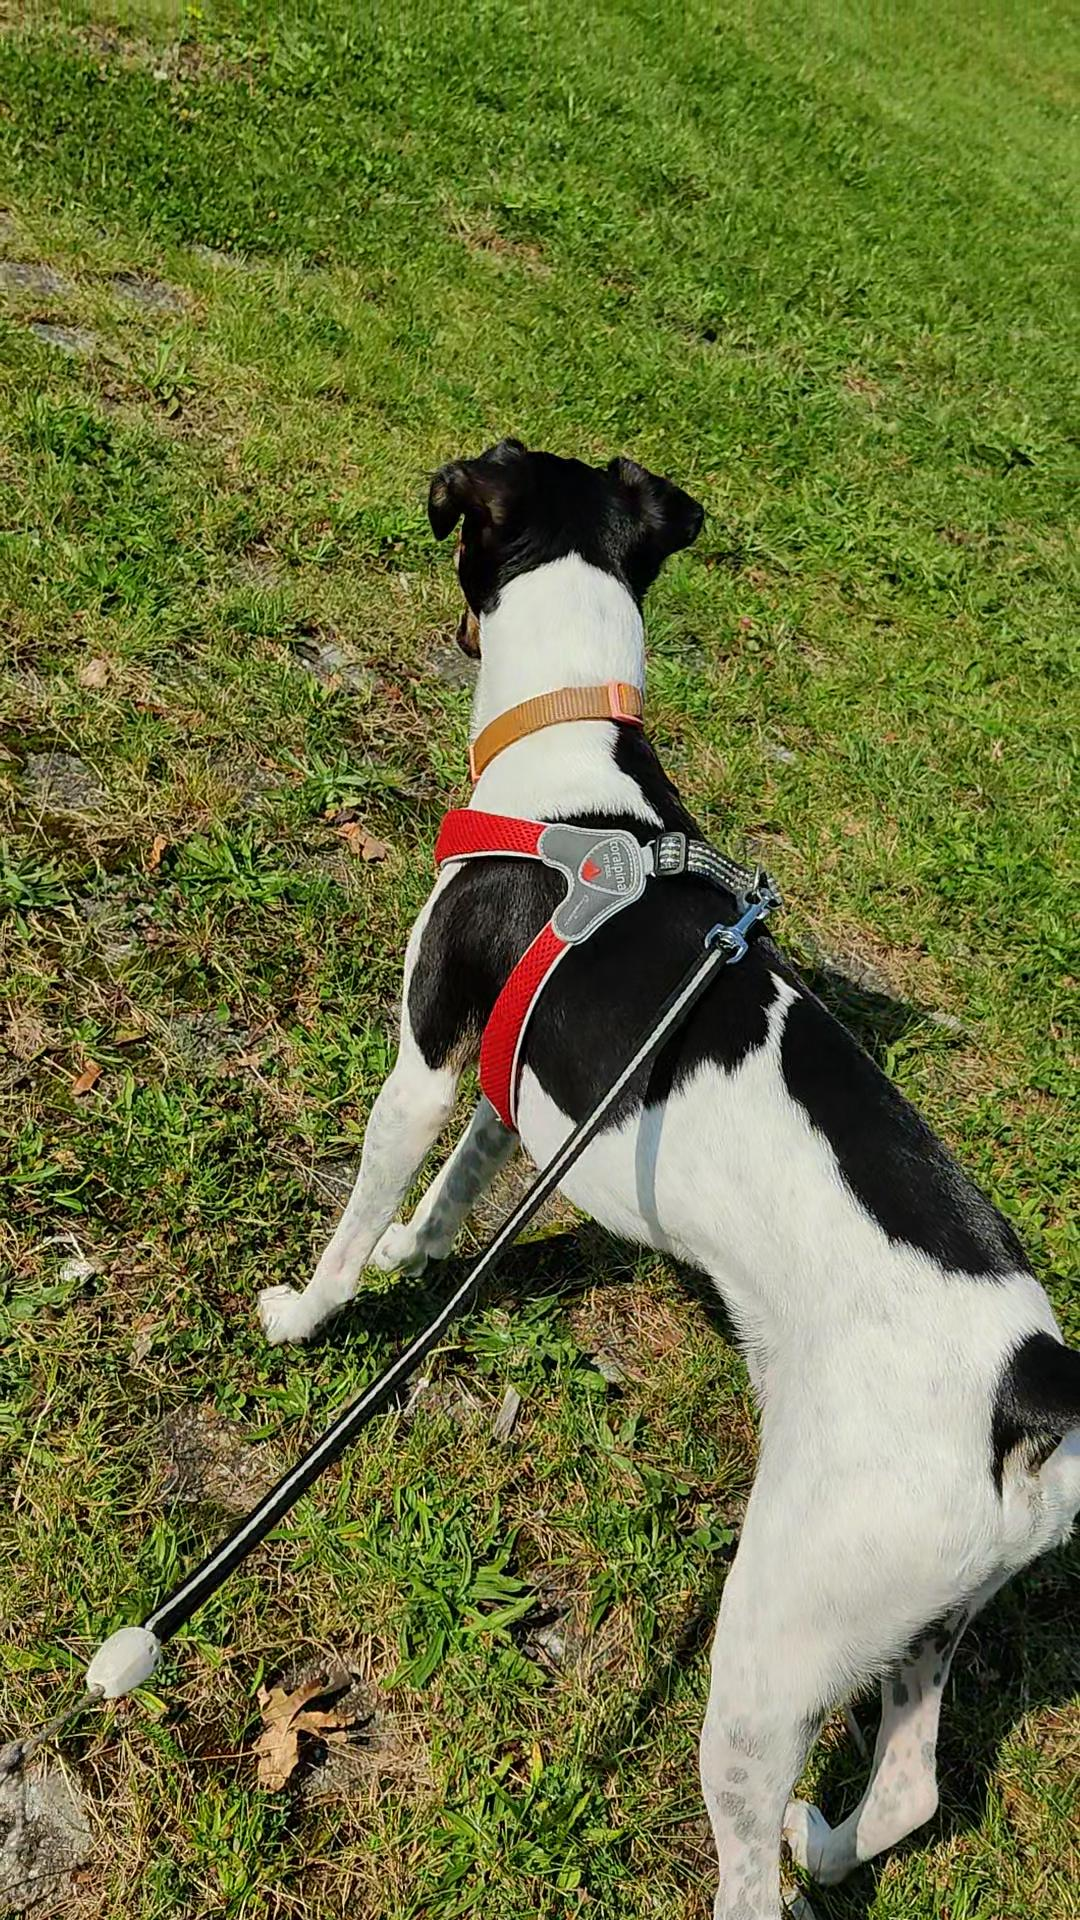Dog: (237, 425, 1079, 1919)
